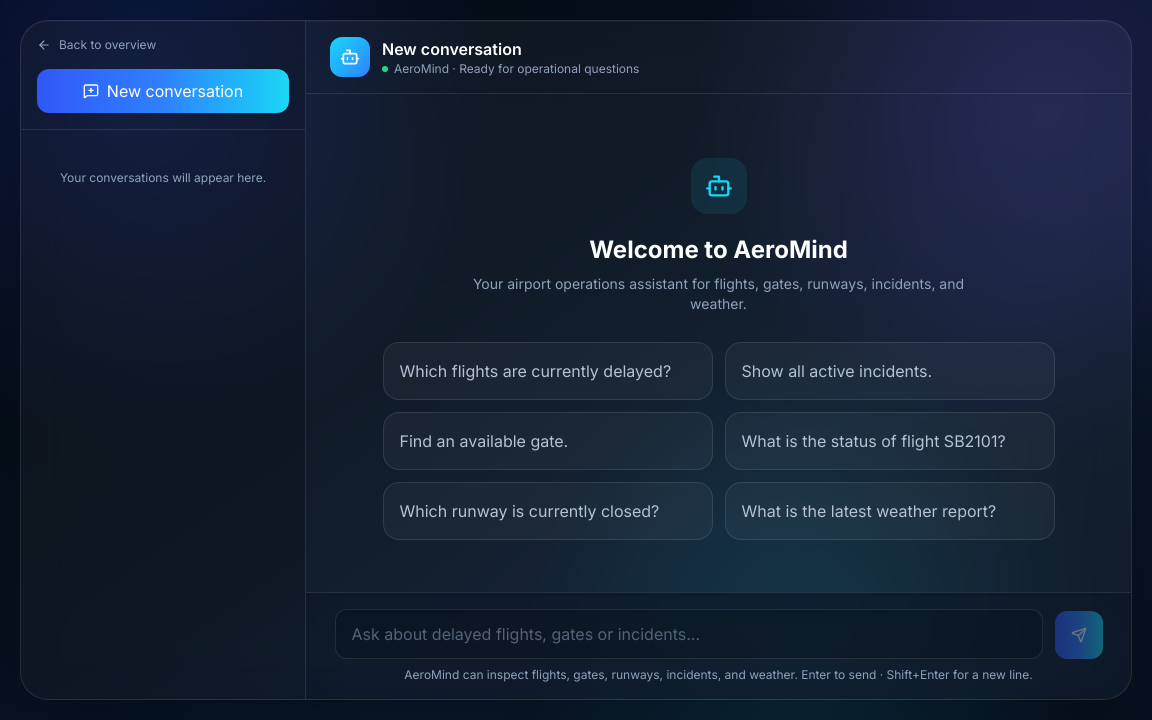
Test case: ChatPage Drogon integration › shows a safe error when the backend rejects a request
In the text box named "Message AeroMind": (688, 634) x1=334 y1=609 x2=1042 y2=659, type "status"
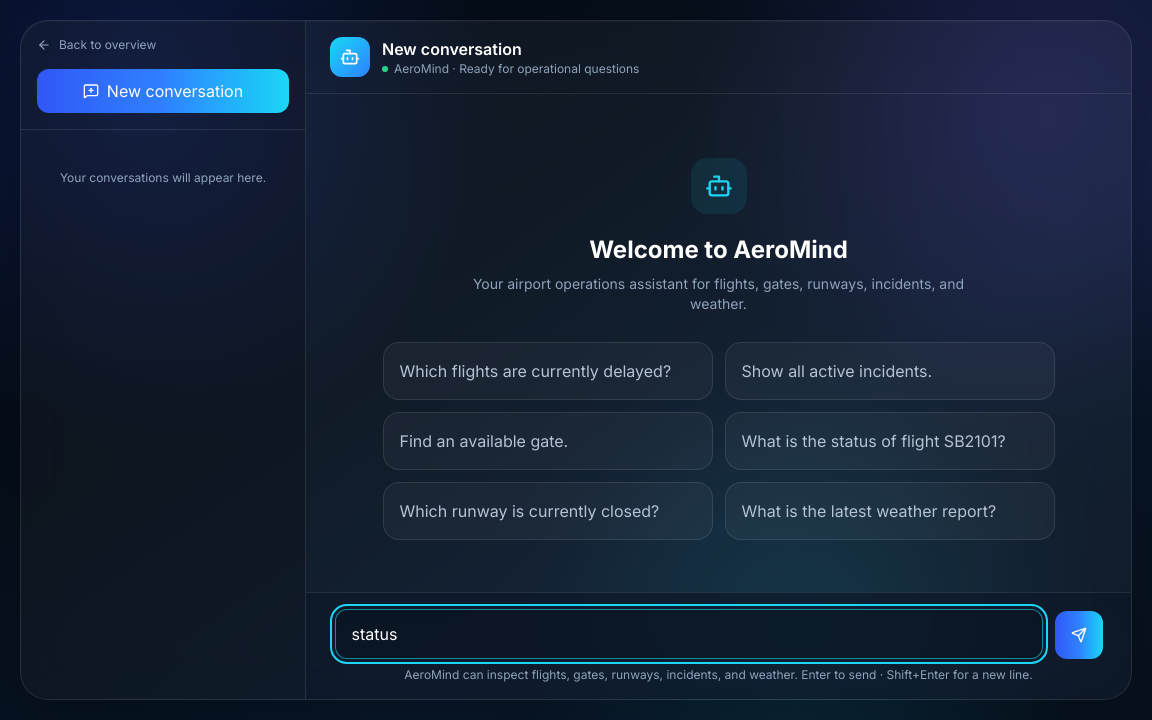
Click the button named "Send message": (1078, 635) x1=1054 y1=611 x2=1102 y2=659
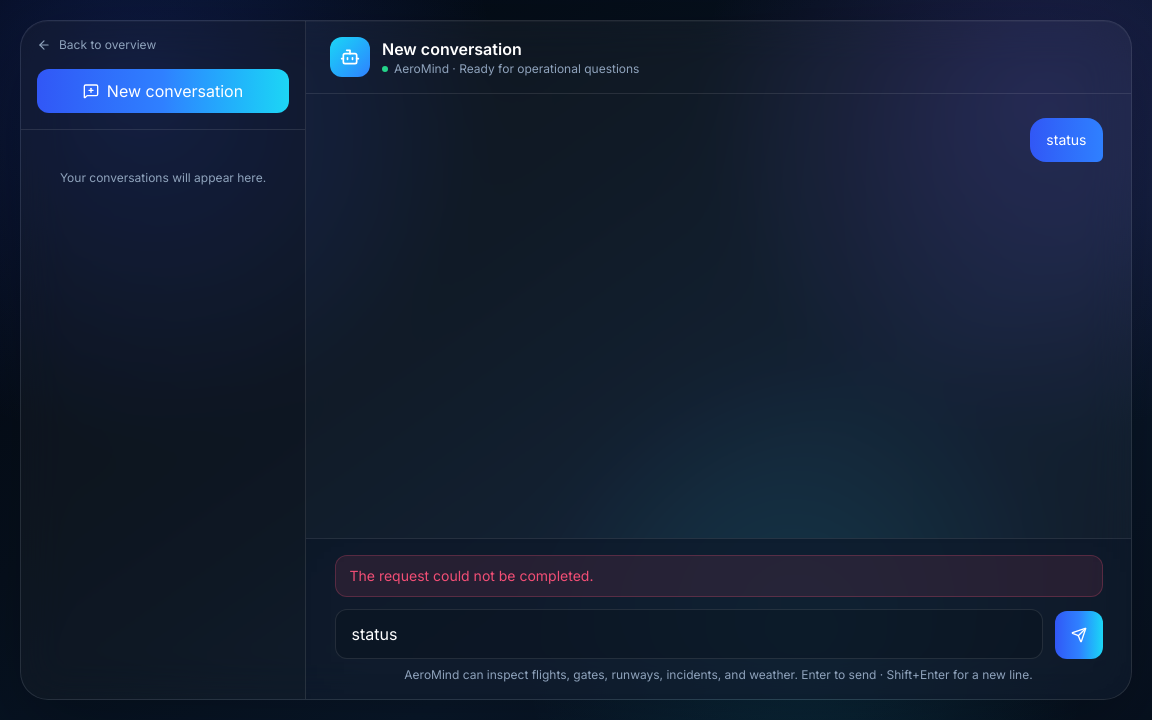
Expected: the message shows "could not be completed", x1=350 y1=567 x2=594 y2=584
